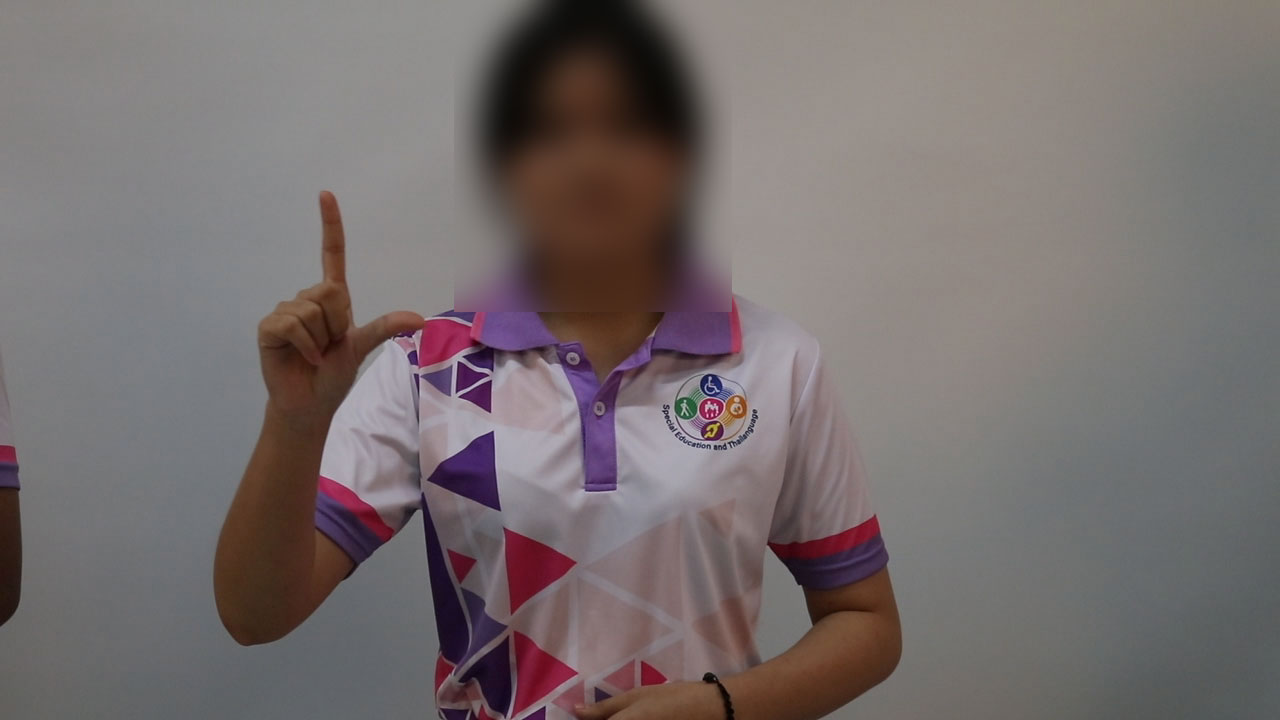lor: (234, 181, 443, 430)
